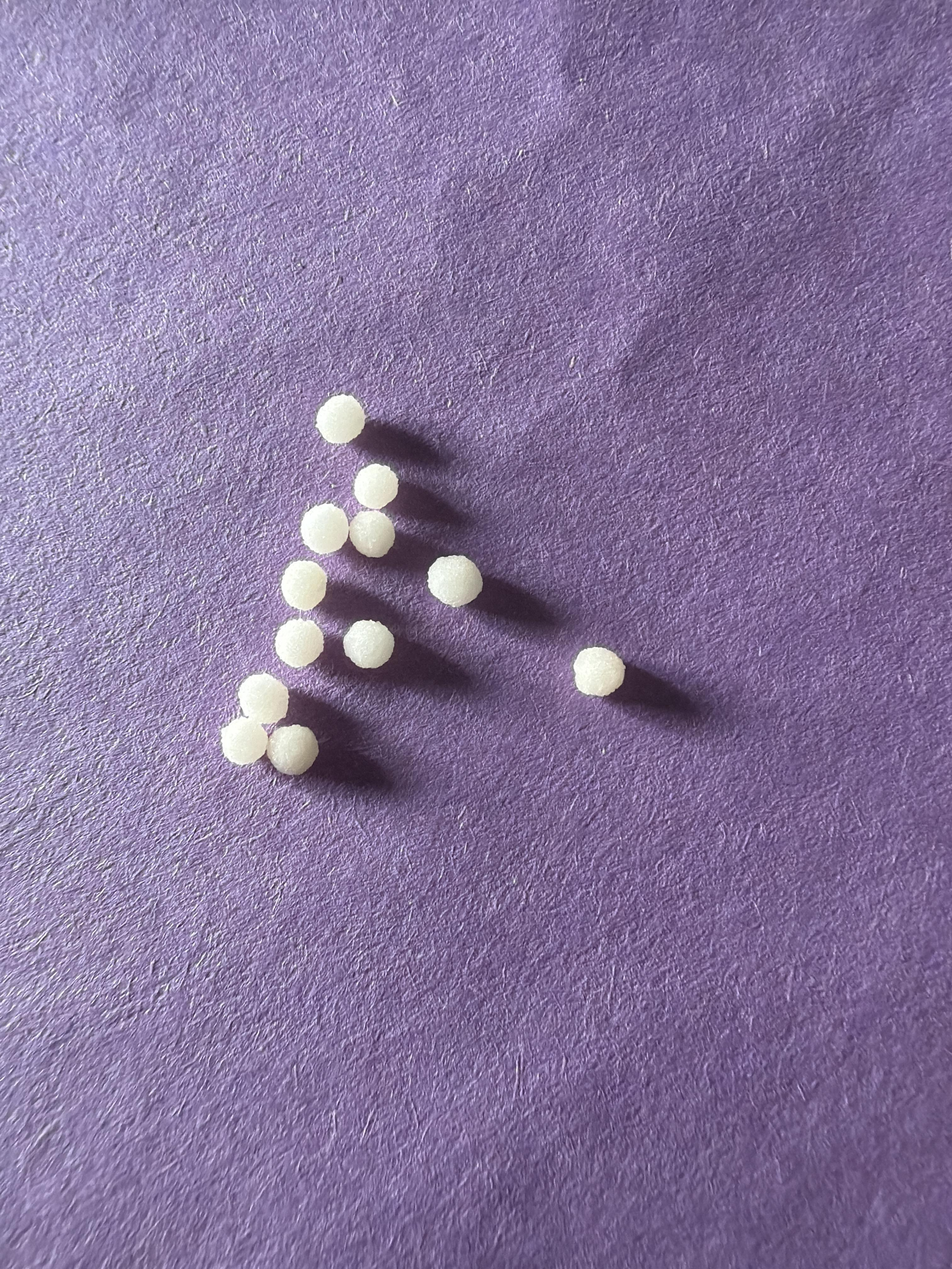pill: (428, 556, 483, 607), (267, 725, 318, 775), (573, 647, 625, 696), (238, 674, 288, 724), (315, 394, 365, 443), (275, 618, 324, 668), (343, 620, 394, 668), (301, 503, 348, 554), (280, 560, 327, 610), (221, 717, 268, 765), (349, 510, 395, 558), (353, 464, 399, 509)
